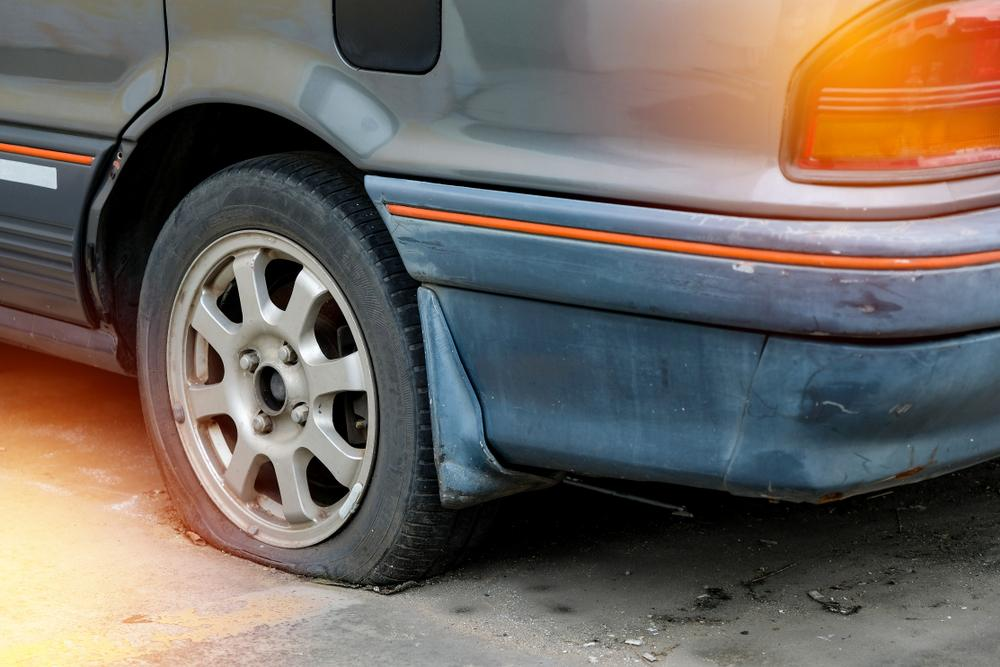tire flat: (137, 145, 440, 588)
